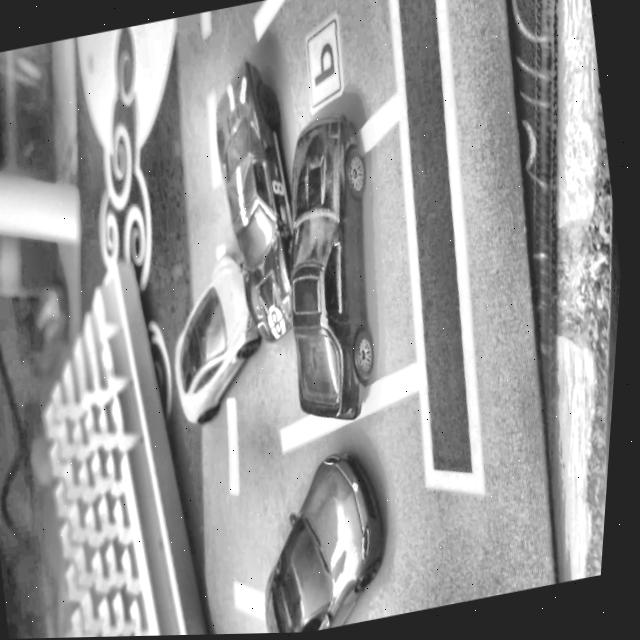car: (254, 107, 414, 431), (193, 54, 325, 350), (245, 443, 410, 635), (156, 246, 283, 429)
